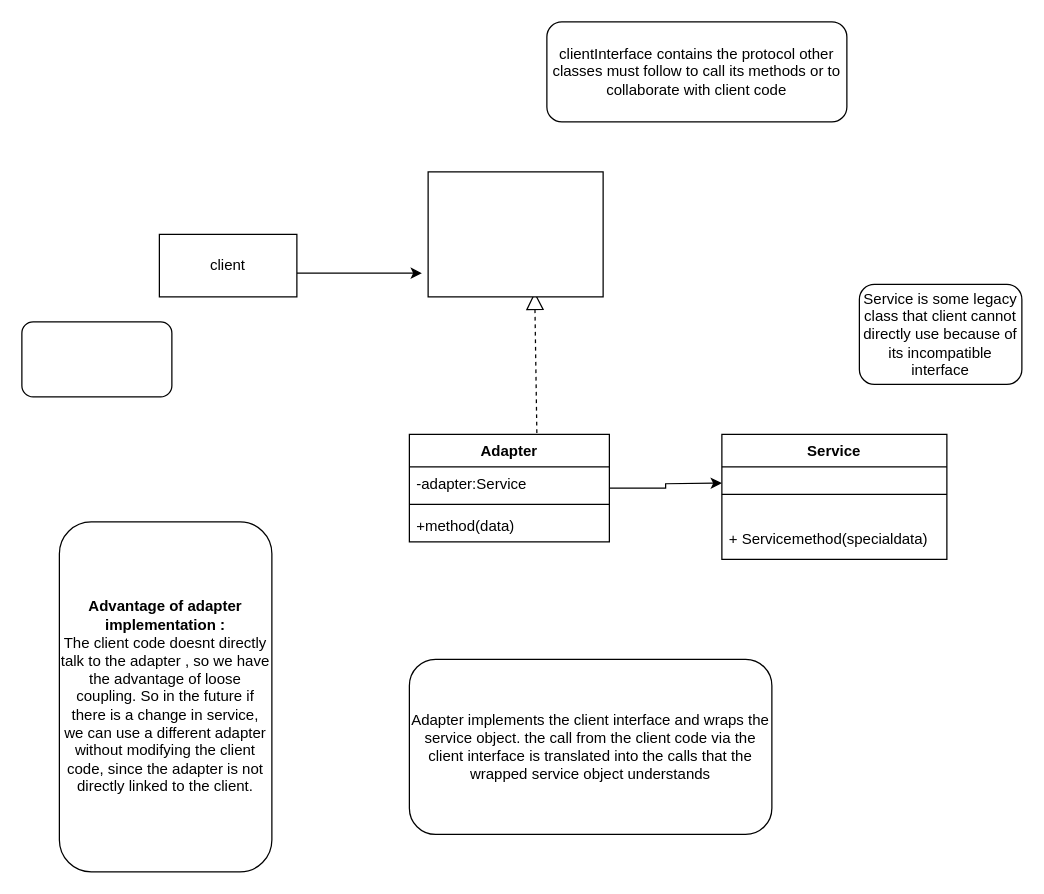
Image size: 1044x894. Some labels were removed from this diagram. The shapes that lost their labels are listed below. From the top down, each one's centre as x and y in pixels, then its label:
At [515,234]: "«interface» ClientInterface".
At [96,359]: "client contains the business logic".
